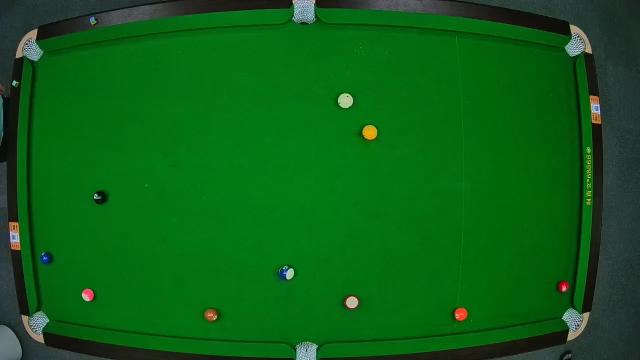bag1: (19, 36, 45, 64)
bag2: (292, 0, 316, 26)
bag3: (563, 30, 589, 57)
bag4: (25, 309, 51, 339)
bag5: (294, 340, 318, 360)
bag6: (560, 306, 586, 334)
ball0: (337, 92, 353, 110)
ball1: (360, 124, 378, 142)
ball10: (278, 264, 294, 282)
ball11: (344, 294, 360, 312)
ball12: (82, 288, 96, 304)
ball2: (39, 250, 53, 268)
ball3: (556, 278, 572, 294)
ball5: (453, 306, 469, 322)
ball7: (202, 306, 218, 322)
ball8: (92, 190, 108, 207)
